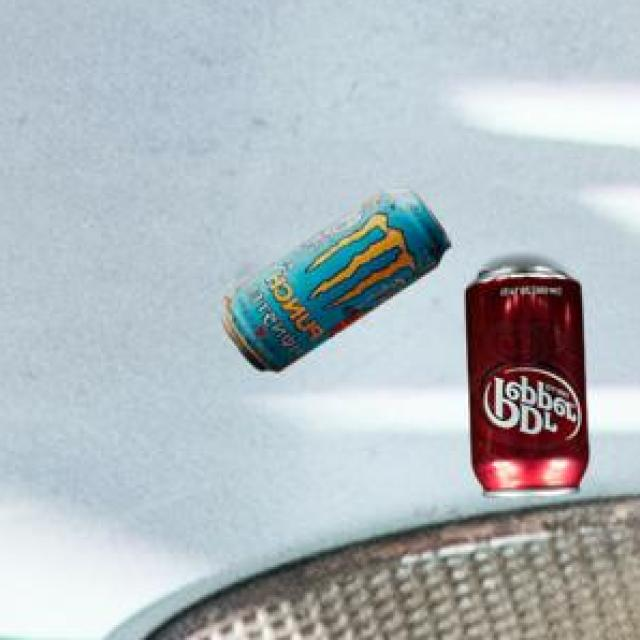logam: (220, 188, 448, 375), (463, 270, 585, 499)
